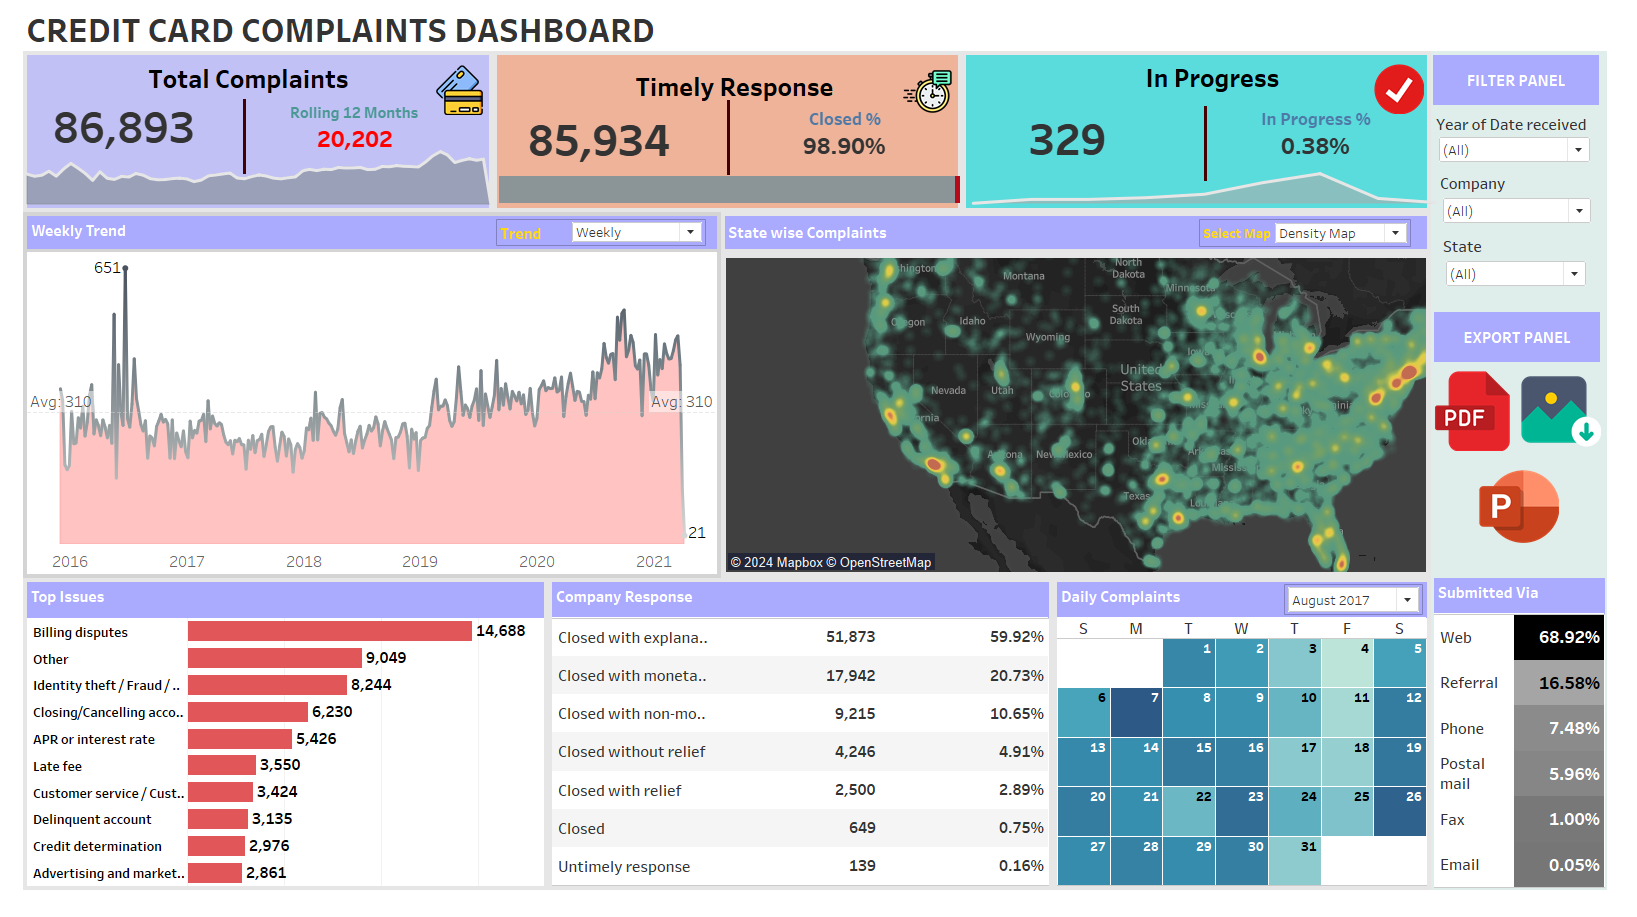

What the dashboard file says about the page in this screenshot:
{"tool":"tableau","page":{"name":"Dashboard 1","canvas":[1600,900],"ordinal":0},"visuals":[{"type":"title","box":[8,8,1408,45]},{"type":"blank","box":[1416,8,176,45]},{"type":"blank","box":[8,53,470,161]},{"type":"blank","box":[478,53,469,161]},{"type":"blank","box":[947,53,469,161]},{"type":"text","box":[1062,56,271,45]},{"type":"text","box":[98,57,271,45]},{"type":"text","box":[1418,57,166,50]},{"type":"text","box":[584,65,271,45]},{"type":"image","param":"E:/DATA ANALYTICS/TABLEAU PROJECTS/PROJECT 3/IMAGES/checked.png","box":[1352,66,65,50]},{"type":"image","param":"E:/DATA ANALYTICS/TABLEAU PROJECTS/PROJECT 3/IMAGES/credit.png","box":[412,67,65,50]},{"type":"image","param":"E:/DATA ANALYTICS/TABLEAU PROJECTS/PROJECT 3/IMAGES/response.png","box":[880,68,65,50]},{"type":"worksheet","title":"Total Complaints","mark":"Automatic","box":[23,98,173,60]},{"type":"blank","box":[228,101,3,75]},{"type":"worksheet","title":"Rolling 12 Month Complaints","mark":"Automatic","box":[240,101,200,59]},{"type":"blank","box":[712,102,3,75]},{"type":"worksheet","title":"Closed %","mark":"Automatic","box":[730,107,200,59]},{"type":"worksheet","title":"In Progress %","mark":"Automatic","box":[1201,107,200,59]},{"type":"blank","box":[1189,108,3,75]},{"type":"worksheet","title":"In Progress Complaints","mark":"Automatic","box":[967,110,173,60]},{"type":"worksheet","title":"Timely Response","mark":"Automatic","box":[498,111,173,60]},{"type":"filter","title":"Trend","param":"[federated.1jo1fng0e7te9f1153fbq199p6ap].[yr:Date received:ok]","box":[1421,116,157,50]},{"type":"worksheet","title":"In Progress SparkLine","mark":"Automatic","rows":["Calculation_1259037622215573512","Calculation_1259037622215573512"],"cols":["Date received"],"box":[933,172,512,36]},{"type":"worksheet","title":"Progress Bar","mark":"Bar","cols":["Calculation_1259037622214623239","Calculation_1259037622213677060"],"box":[484,173,484,36]},{"type":"filter","title":"Trend","param":"[federated.1jo1fng0e7te9f1153fbq199p6ap].[none:Company:nk]","box":[1425,175,154,53]},{"type":"worksheet","title":"Trend","mark":"Automatic","rows":["Number of Records","Number of Records"],"cols":["Calculation_615304350700707840"],"box":[8,213.8,698.5,366.2]},{"type":"text","box":[706.5,213.8,709.5,41]},{"type":"parameter","param":"[Parameters].[Parameter 2]","box":[481,221,210,27]},{"type":"parameter","param":"[Parameters].[Parameter 3]","box":[1184,221,212,28]},{"type":"filter","title":"Trend","param":"[federated.1jo1fng0e7te9f1153fbq199p6ap].[none:State:nk]","box":[1428,238,146,65]},{"type":"worksheet","title":"Density Map","mark":"Heatmap","box":[706.5,254.8,709.5,324.2]},{"type":"text","box":[1419,314,166,50]},{"type":"dashboard-object","box":[1415,373,85,80]},{"type":"dashboard-object","box":[1504,373,85,80]},{"type":"dashboard-object","box":[1462,468,85,80]},{"type":"worksheet","title":"Filled Map","mark":"Multipolygon","box":[706.5,579,709.5,1]},{"type":"worksheet","title":"Top Issues","mark":"Automatic","rows":["Issue"],"cols":["Number of Records"],"box":[8,580,525,312]},{"type":"worksheet","title":"Company Response","mark":"Automatic","rows":["Company response to consumer"],"box":[533,580,505,312]},{"type":"worksheet","title":"Daily Complaints","mark":"Square","rows":["Date received"],"cols":["Date received"],"box":[1038,580,377.9,312]},{"type":"worksheet","title":"Submitted Via","mark":"Square","rows":["Submitted via"],"box":[1419,580,171,310]},{"type":"filter","title":"Daily Complaints","param":"[federated.1jo1fng0e7te9f1153fbq199p6ap].[my:Date received:ok]","box":[1269,586,139,31]}]}

Visuals, with their boxes in screenshot pixels (x1, y1, x2, y2), scaled from the page's 1600x900 canvas onto the 1637x917 screenshot:
title: bbox(8, 8, 1449, 54)
blank: bbox(1449, 8, 1629, 54)
blank: bbox(8, 54, 489, 218)
blank: bbox(489, 54, 969, 218)
blank: bbox(969, 54, 1449, 218)
text: bbox(1087, 57, 1364, 103)
text: bbox(100, 58, 378, 104)
text: bbox(1451, 58, 1621, 109)
text: bbox(598, 66, 875, 112)
image: bbox(1383, 67, 1450, 118)
image: bbox(422, 68, 488, 119)
image: bbox(900, 69, 967, 120)
"Total Complaints" worksheet: bbox(24, 100, 201, 161)
blank: bbox(233, 103, 236, 179)
"Rolling 12 Month Complaints" worksheet: bbox(246, 103, 450, 163)
blank: bbox(728, 104, 732, 180)
"Closed %" worksheet: bbox(747, 109, 952, 169)
"In Progress %" worksheet: bbox(1229, 109, 1433, 169)
blank: bbox(1216, 110, 1220, 186)
"In Progress Complaints" worksheet: bbox(989, 112, 1166, 173)
"Timely Response" worksheet: bbox(510, 113, 687, 174)
"Trend" filter: bbox(1454, 118, 1614, 169)
"In Progress SparkLine" worksheet: bbox(955, 175, 1478, 212)
"Progress Bar" worksheet (Bar marks): bbox(495, 176, 990, 213)
"Trend" filter: bbox(1458, 178, 1616, 232)
"Trend" worksheet: bbox(8, 218, 723, 591)
text: bbox(723, 218, 1449, 260)
parameter: bbox(492, 225, 707, 253)
parameter: bbox(1211, 225, 1428, 254)
"Trend" filter: bbox(1461, 242, 1610, 309)
"Density Map" worksheet (Heatmap marks): bbox(723, 260, 1449, 590)
text: bbox(1452, 320, 1622, 371)
dashboard-object: bbox(1448, 380, 1535, 462)
dashboard-object: bbox(1539, 380, 1626, 462)
dashboard-object: bbox(1496, 477, 1583, 558)
"Filled Map" worksheet (Multipolygon marks): bbox(723, 590, 1449, 591)
"Top Issues" worksheet: bbox(8, 591, 545, 909)
"Company Response" worksheet: bbox(545, 591, 1062, 909)
"Daily Complaints" worksheet (Square marks): bbox(1062, 591, 1449, 909)
"Submitted Via" worksheet (Square marks): bbox(1452, 591, 1627, 907)
"Daily Complaints" filter: bbox(1298, 597, 1441, 629)
